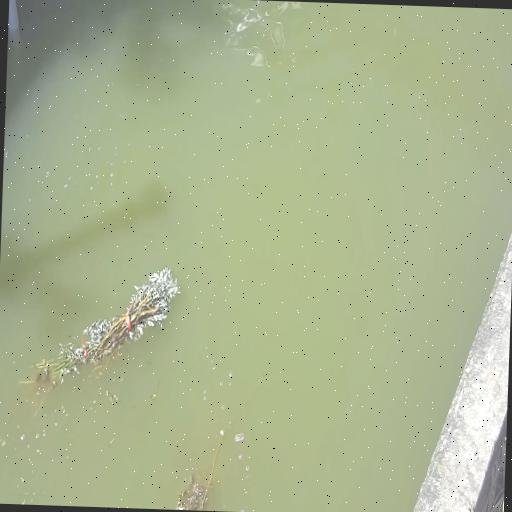twig: (22, 267, 179, 387), (176, 375, 264, 510)
